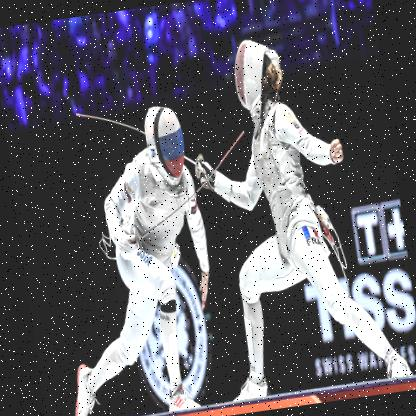fencer: (179, 8, 415, 405), (27, 95, 236, 415)
